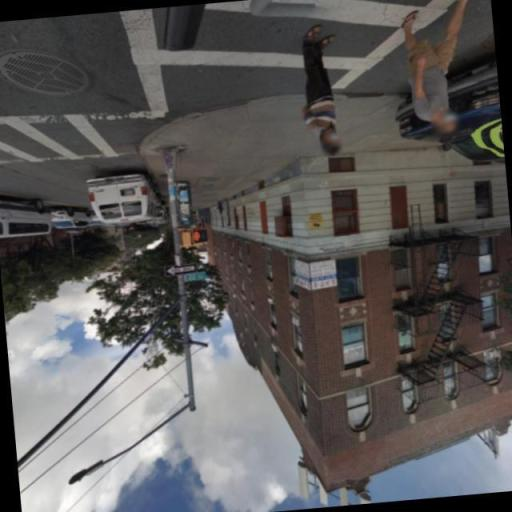off: (46, 446, 136, 504)
